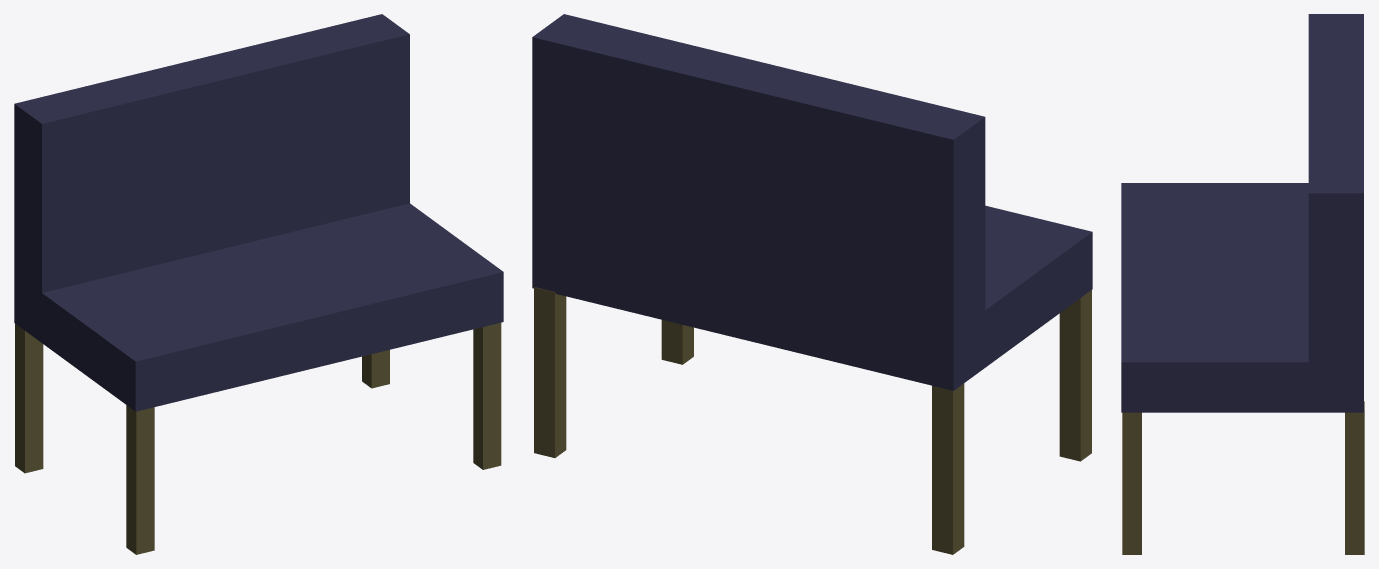
File: Chair.fbx
3 renders of one model, left to right at view 1: azimuth 30°, elevation 25°; view 2: azimuth 150°, elevation 25°; view 3: azimuth 270°, elevation 25°, orthographic. The views are drawn at different scales.
Parts seen in each view (by area): view 1: polySurface3; view 2: polySurface3; view 3: polySurface3.
Part boxes in pixels (<box>): polySurface3: <box>14,14,503,554</box>; polySurface3: <box>532,14,1092,554</box>; polySurface3: <box>1121,14,1364,554</box>.
Size of the model in its own units: 0.9629 by 0.9069 by 0.5515.
